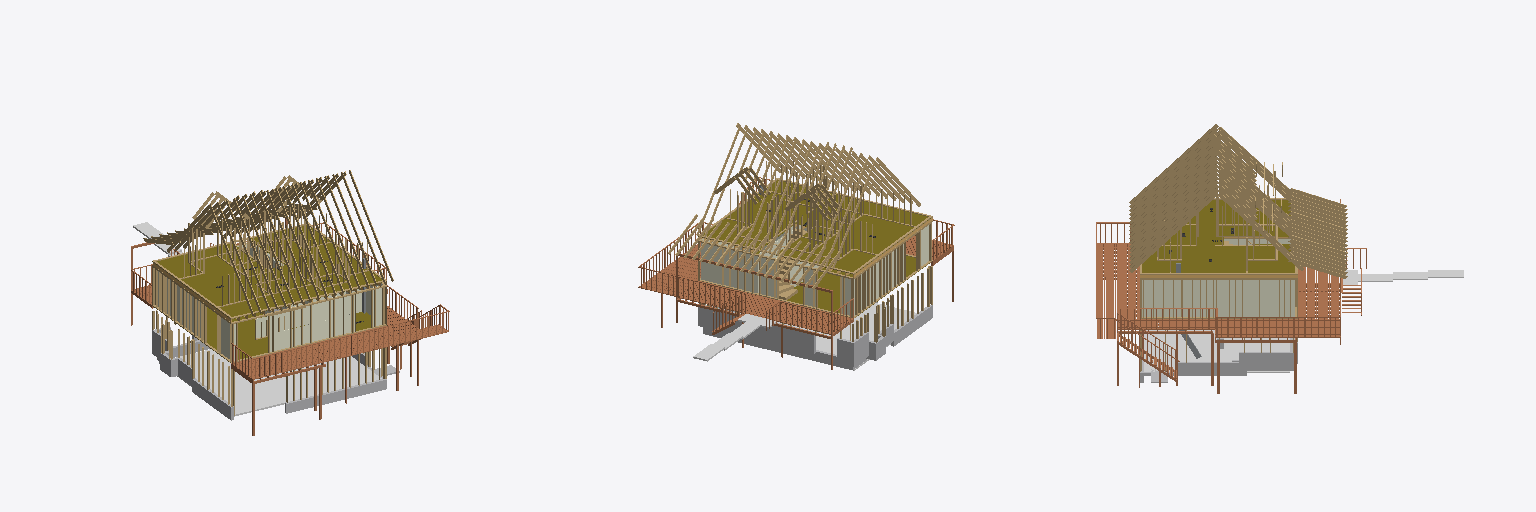
Rendered from house6.obj.
3 renders of one model, left to right at view 1: azimuth 30°, elevation 25°; view 2: azimuth 150°, elevation 25°; view 3: azimuth 270°, elevation 25°, orthographic.
Visible parts, largest first — view 1: Mesh336 G_4x8x5_8_5 subfloor1 G_2_bottoplate Model, Mesh708 G_0_slab1 G_0_slab2 Model, Mesh337 G_4x8x5_8_6 subfloor1 G_2_bottoplate Model, Mesh99 G_4x8x5_8_1 subfloor G_1_bottomplate Model, Mesh699 G_4x8x_25_46 G_1_drywall Model, Mesh641 G_8x16x8_14 G_0_stemwall Model, Mesh640 G_8x16x8_13 G_0_stemwall Model; view 2: Mesh336 G_4x8x5_8_5 subfloor1 G_2_bottoplate Model, Mesh337 G_4x8x5_8_6 subfloor1 G_2_bottoplate Model, Mesh652 G_8x16x8_25 G_0_stemwall Model, Mesh665 G_4x8x_25_13 G_1_drywall Model, Mesh708 G_0_slab1 G_0_slab2 Model, Mesh99 G_4x8x5_8_1 subfloor G_1_bottomplate Model, Mesh711 G_8x16x8_28 G_0_slab2 Model, Mesh640 G_8x16x8_13 G_0_stemwall Model, Mesh691 G_4x8x_25_38 G_1_drywall Model; view 3: Mesh337 G_4x8x5_8_6 subfloor1 G_2_bottoplate Model, Mesh664 G_4x8x_25_12 G_1_drywall Model, Mesh708 G_0_slab1 G_0_slab2 Model, Mesh336 G_4x8x5_8_5 subfloor1 G_2_bottoplate Model, Mesh706 G_4x8x_25_52 G_1_drywall Model, Mesh660 G_4x8x_25_8 G_1_drywall Model, Mesh629 G_8x16x8_2 G_0_stemwall Model, Mesh628 G_8x16x8_1 G_0_stemwall Model.
Boxes of the visible parts, box(x1,y1,x2,y2) form: Mesh336 G_4x8x5_8_5 subfloor1 G_2_bottoplate Model: box(152, 244, 307, 318); Mesh708 G_0_slab1 G_0_slab2 Model: box(159, 349, 360, 416); Mesh337 G_4x8x5_8_6 subfloor1 G_2_bottoplate Model: box(251, 225, 381, 295); Mesh99 G_4x8x5_8_1 subfloor G_1_bottomplate Model: box(154, 307, 267, 361); Mesh699 G_4x8x_25_46 G_1_drywall Model: box(270, 314, 350, 351); Mesh641 G_8x16x8_14 G_0_stemwall Model: box(285, 379, 386, 413); Mesh640 G_8x16x8_13 G_0_stemwall Model: box(192, 378, 233, 420); Mesh336 G_4x8x5_8_5 subfloor1 G_2_bottoplate Model: box(776, 199, 930, 273); Mesh337 G_4x8x5_8_6 subfloor1 G_2_bottoplate Model: box(698, 180, 831, 249); Mesh652 G_8x16x8_25 G_0_stemwall Model: box(698, 305, 815, 353); Mesh665 G_4x8x_25_13 G_1_drywall Model: box(701, 243, 757, 292); Mesh708 G_0_slab1 G_0_slab2 Model: box(746, 303, 916, 370); Mesh99 G_4x8x5_8_1 subfloor G_1_bottomplate Model: box(787, 256, 929, 315); Mesh711 G_8x16x8_28 G_0_slab2 Model: box(706, 328, 848, 368); Mesh640 G_8x16x8_13 G_0_stemwall Model: box(891, 305, 932, 346); Mesh691 G_4x8x_25_38 G_1_drywall Model: box(854, 244, 903, 315); Mesh337 G_4x8x5_8_6 subfloor1 G_2_bottoplate Model: box(1142, 245, 1294, 272); Mesh664 G_4x8x_25_12 G_1_drywall Model: box(1217, 280, 1294, 316); Mesh708 G_0_slab1 G_0_slab2 Model: box(1144, 323, 1289, 360); Mesh336 G_4x8x5_8_5 subfloor1 G_2_bottoplate Model: box(1172, 200, 1290, 236); Mesh706 G_4x8x_25_52 G_1_drywall Model: box(1144, 280, 1180, 316); Mesh660 G_4x8x_25_8 G_1_drywall Model: box(1183, 280, 1215, 316); Mesh629 G_8x16x8_2 G_0_stemwall Model: box(1178, 362, 1238, 375); Mesh628 G_8x16x8_1 G_0_stemwall Model: box(1239, 352, 1293, 365).
Size of the model in its own units: 519 by 473 by 812.